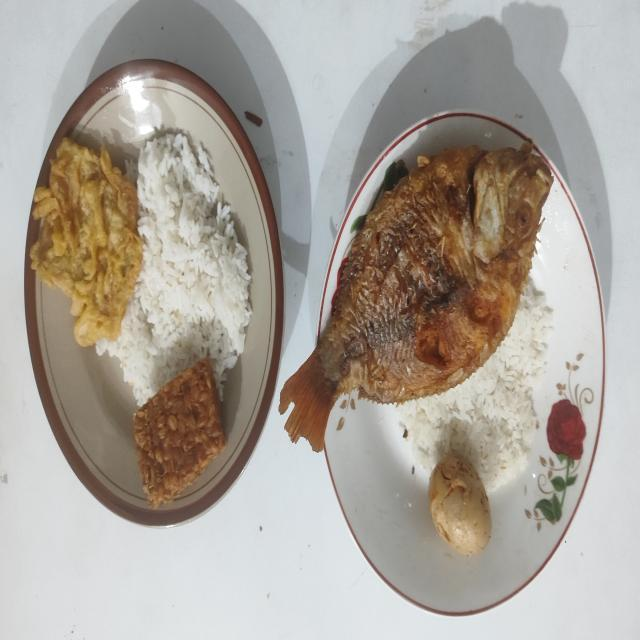ikan_mujair: (280, 143, 553, 448)
nasi_putih: (96, 130, 252, 407), (394, 281, 552, 490)
tempe_goreng: (134, 358, 227, 508)
